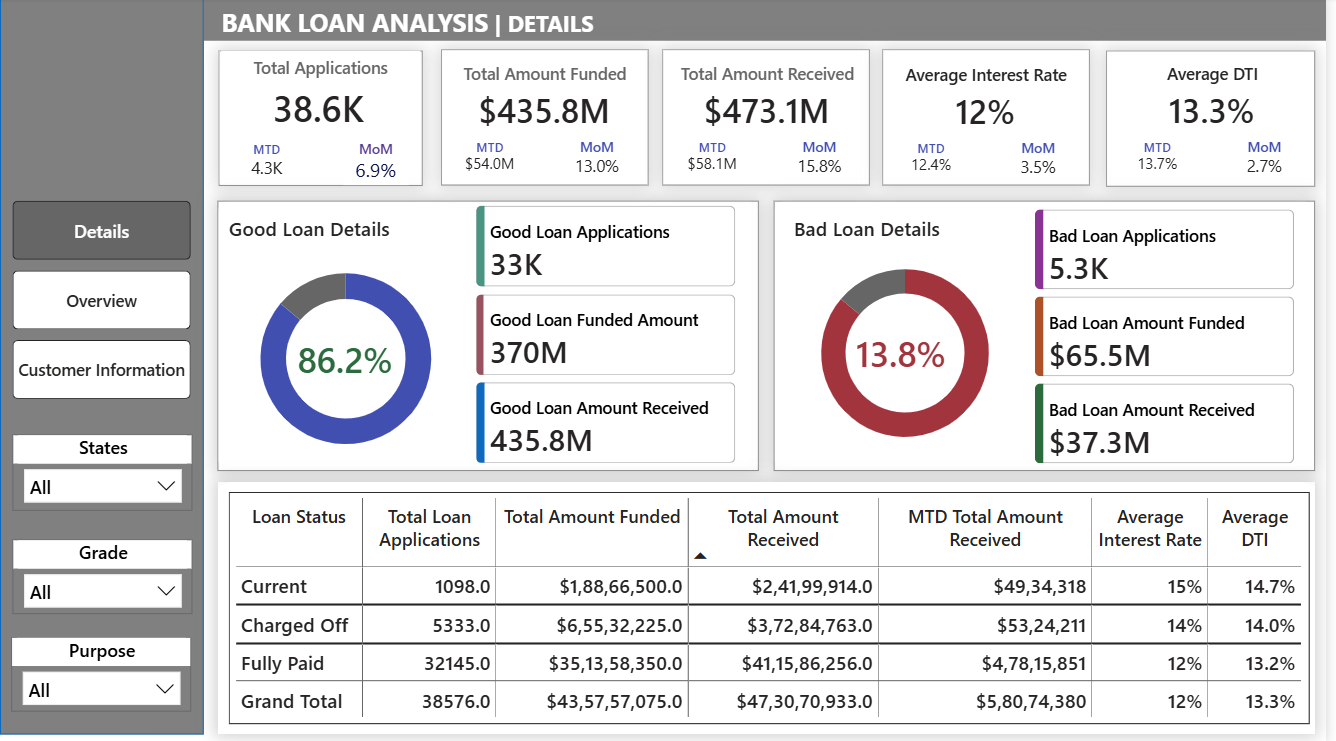

What the dashboard file says about the page in this screenshot:
{"tool":"powerbi","page":{"name":"Details","canvas":[1280,720],"ordinal":0},"visuals":[{"type":"shape","box":[211.1,51.9,196.6,130.3],"z":0},{"type":"textbox","box":[430.3,58,190.6,33.6],"z":0,"group":"g2"},{"type":"textbox","box":[645.1,58,190.6,33.6],"z":0,"group":"g3"},{"type":"textbox","box":[1074.8,58,190.6,33.6],"z":0,"group":"g5"},{"type":"textbox","box":[856.3,59.3,190.6,33.6],"z":0,"group":"g4"},{"type":"donutChart","fields":{"Category":["bank_loan_data.Good v Bad Loan"],"Y":["_Measures.Total Loan Applications"]},"box":[213.6,240.7,240.7,216.1],"z":0,"group":"g6"},{"type":"shape","box":[196.6,0,1083.4,42.2],"z":1000},{"type":"card","fields":{"Values":["bank_loan_data.Total Loan Applications"]},"box":[223.2,84.8,168.4,46.7],"z":1000,"group":"g1"},{"type":"card","fields":{"Values":["bank_loan_data.Total Amount Funded"]},"box":[429.6,86,191.8,48.3],"z":1000,"group":"g2"},{"type":"card","fields":{"Values":["_Measures.Total Amount Received"]},"box":[644.4,86,191.8,48.3],"z":1000,"group":"g3"},{"type":"card","fields":{"Values":["_Measures.Average DTI"]},"box":[1074.1,86,191.8,48.3],"z":1000,"group":"g5"},{"type":"card","fields":{"Values":["_Measures.Average Interest Rate"]},"box":[855.6,87.3,191.8,48.3],"z":1000,"group":"g4"},{"type":"card","fields":{"Values":["_Measures.Good Loan %"]},"box":[276.6,316.6,113.6,66.6],"z":1000,"group":"g6"},{"type":"shape","box":[0,0,196.6,711.8],"z":2000},{"type":"card","title":"MTD","fields":{"Values":["_Measures.MTD Total Amount Funded"]},"box":[437.5,136.4,70,36.2],"z":2000,"group":"g2"},{"type":"card","title":"MTD","fields":{"Values":["_Measures.MTD Total Amount Received"]},"box":[652.3,136.4,70,36.2],"z":2000,"group":"g3"},{"type":"card","title":"MTD","fields":{"Values":["_Measures.MTD Average DTI"]},"box":[1082,136.4,70,36.2],"z":2000,"group":"g5"},{"type":"card","title":"MTD","fields":{"Values":["_Measures.MTD Interest Rate"]},"box":[863.5,137.7,70,36.2],"z":2000,"group":"g4"},{"type":"card","title":"MTD","fields":{"Values":["bank_loan_data.MTD Loan Applications"]},"box":[225.3,139,63.9,39.2],"z":2000,"group":"g1"},{"type":"card","title":"MoM","fields":{"Values":["_Measures.MoM Total Amount Funded"]},"box":[541.3,135.2,68.8,41],"z":3000,"group":"g2"},{"type":"card","title":"MoM","fields":{"Values":["_Measures.MoM Total Amount Received"]},"box":[756.1,135.2,68.8,41],"z":3000,"group":"g3"},{"type":"card","title":"MoM","fields":{"Values":["_Measures.MoM Average DTI"]},"box":[1185.8,135.2,68.8,41],"z":3000,"group":"g5"},{"type":"card","title":"MoM","fields":{"Values":["_Measures.MoM Average Interest Rate"]},"box":[967.3,136.5,68.8,41],"z":3000,"group":"g4"},{"type":"card","title":"MoM","fields":{"Values":["bank_loan_data.MoM Loan Applications"]},"box":[332.4,138,62.2,44.3],"z":3000,"group":"g1"},{"type":"shape","box":[209.9,196.6,522.4,260.6],"z":3000},{"type":"shape","box":[1067.9,51.9,201.2,130.9],"z":4000},{"type":"shape","box":[425.9,50.6,200,130.9],"z":5000},{"type":"group","id":"g1","title":"Group 1","box":[223.2,84.8,171.3,97.4],"z":6000,"group":"g8"},{"type":"group","id":"g2","title":"Group 1","box":[429.6,58,192.6,117.3],"z":7000},{"type":"shape","box":[639.5,50.6,200,130.9],"z":8000},{"type":"group","id":"g3","title":"Group 1","box":[644.4,58,191.4,119.8],"z":9000},{"type":"shape","box":[851.9,50.6,200,130.9],"z":10000},{"type":"group","id":"g4","title":"Group 1","box":[855.6,59.3,191.4,119.8],"z":11000},{"type":"group","id":"g5","title":"Group 1","box":[1074.1,58,190.1,119.8],"z":12000},{"type":"shape","box":[746.9,196.3,522.2,260.5],"z":13000},{"type":"donutChart","fields":{"Category":["bank_loan_data.Good v Bad Loan"],"Y":["_Measures.Total Loan Applications"]},"box":[759.2,237.9,229.6,212.3],"z":14000},{"type":"group","id":"g6","title":"Group 2","box":[213.6,240.7,240.7,216.1],"z":15000},{"type":"cardVisual","fields":{"Data":["_Measures.Good Loan Applications","_Measures.Good Loan Funded Amount","_Measures.Good Loan Amount Received"]},"box":[454.3,196.3,260.5,260.5],"z":16000},{"type":"textbox","box":[216.1,206.2,181.5,34.6],"z":17000},{"type":"card","fields":{"Values":["_Measures.Bad Loan %"]},"box":[807.4,305,124.7,79],"z":18000},{"type":"textbox","box":[761.7,206.2,181.5,34.6],"z":19000},{"type":"cardVisual","fields":{"Data":["_Measures.Bad Loan Applications","_Measures.Bad Loan Amount Funded","_Measures.Bad Loan Amount Received"]},"box":[993.8,200,260.5,256.8],"z":20000},{"type":"shape","box":[209.9,467.9,1059.3,243.2],"z":21000},{"type":"tableEx","fields":{"Values":["bank_loan_data.loan_status","_Measures.Total Loan Applications","_Measures.Total Amount Funded","_Measures.Total Amount Received","_Measures.MTD Total Amount Received","_Measures.Average Interest Rate","_Measures.Average DTI"]},"box":[220.5,477.6,1043.4,224.3],"z":22000},{"type":"pageNavigator","box":[12.1,196.6,172.5,191.8],"z":23000},{"type":"slicer","title":"States","fields":{"Values":["bank_loan_data.address_state"]},"box":[12.1,422.3,173.7,73.6],"z":23000,"group":"g7"},{"type":"textbox","box":[208.7,3.6,598.4,47.1],"z":24000},{"type":"group","id":"g7","title":"Group 3","box":[10.9,422.3,174.9,267.8],"z":25000},{"type":"slicer","title":"Grade","fields":{"Values":["bank_loan_data.grade"]},"box":[12.1,523.6,173.7,72.4],"z":25000,"group":"g7"},{"type":"textbox","box":[213.5,51.9,191.8,36.7],"z":26000,"group":"g8"},{"type":"slicer","title":"Purpose","fields":{"Values":["bank_loan_data.purpose"]},"box":[10.9,617.7,173.7,72.4],"z":26000,"group":"g7"},{"type":"group","id":"g8","title":"Group 4","box":[213.5,51.9,191.8,130.3],"z":26001}]}

Visuals, with their boxes in screenshot pixels (x1, y1, x2, y2), scaled from the page's 1280x720 canvas onto the 1336x741 screenshot:
shape: [220,53,426,188]
textbox: [449,60,648,94]
textbox: [673,60,872,94]
textbox: [1122,60,1321,94]
textbox: [894,61,1093,96]
donutChart - bank_loan_data.Good v Bad Loan x _Measures.Total Loan Applications: [223,248,474,470]
shape: [205,0,1335,43]
card - bank_loan_data.Total Loan Applications: [233,87,409,135]
card - bank_loan_data.Total Amount Funded: [448,89,649,138]
card - _Measures.Total Amount Received: [673,89,873,138]
card - _Measures.Average DTI: [1121,89,1321,138]
card - _Measures.Average Interest Rate: [893,90,1093,140]
card - _Measures.Good Loan %: [289,326,407,394]
shape: [0,0,205,733]
"MTD" card: [457,140,530,178]
"MTD" card: [681,140,754,178]
"MTD" card: [1129,140,1202,178]
"MTD" card: [901,142,974,179]
"MTD" card: [235,143,302,183]
"MoM" card: [565,139,637,181]
"MoM" card: [789,139,861,181]
"MoM" card: [1238,139,1309,181]
"MoM" card: [1010,140,1081,183]
"MoM" card: [347,142,412,188]
shape: [219,202,764,471]
shape: [1115,53,1325,188]
shape: [445,52,653,187]
"Group 1" group: [233,87,412,188]
"Group 1" group: [448,60,649,180]
shape: [667,52,876,187]
"Group 1" group: [673,60,872,183]
shape: [889,52,1098,187]
"Group 1" group: [893,61,1093,184]
"Group 1" group: [1121,60,1320,183]
shape: [780,202,1325,470]
donutChart - bank_loan_data.Good v Bad Loan x _Measures.Total Loan Applications: [792,245,1032,463]
"Group 2" group: [223,248,474,470]
cardVisual - _Measures.Good Loan Applications x _Measures.Good Loan Funded Amount: [474,202,746,470]
textbox: [226,212,415,248]
card - _Measures.Bad Loan %: [843,314,973,395]
textbox: [795,212,984,248]
cardVisual - _Measures.Bad Loan Applications x _Measures.Bad Loan Amount Funded: [1037,206,1309,470]
shape: [219,482,1325,732]
tableEx - bank_loan_data.loan_status x _Measures.Total Loan Applications: [230,492,1319,722]
pageNavigator: [13,202,193,400]
"States" slicer: [13,435,194,510]
textbox: [218,4,842,52]
"Group 3" group: [11,435,194,710]
"Grade" slicer: [13,539,194,613]
textbox: [223,53,423,91]
"Purpose" slicer: [11,636,193,710]
"Group 4" group: [223,53,423,188]
